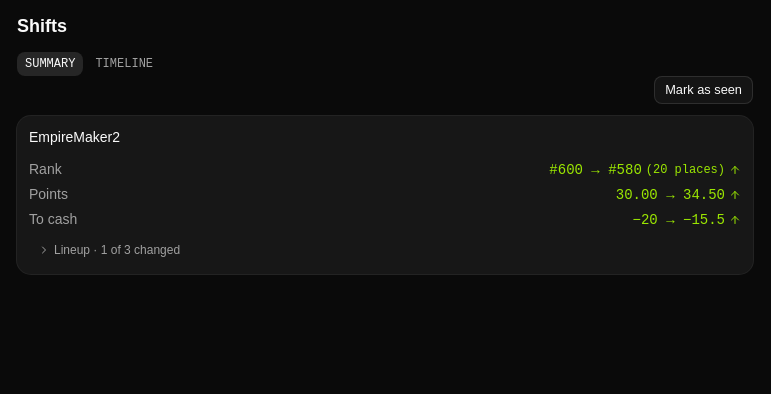
the lineup diff on a VIP card › shows a collapsed Lineup row counting the changed players, which toggles the diff open and closed
Expected: the heading "Shifts" is shown, [17, 16, 67, 36]
Expected: the text "Josh Allen" is not shown
Click the button "Lineup · 1 of 3 changed".
click(77, 250)  # box [29, 238, 741, 262]
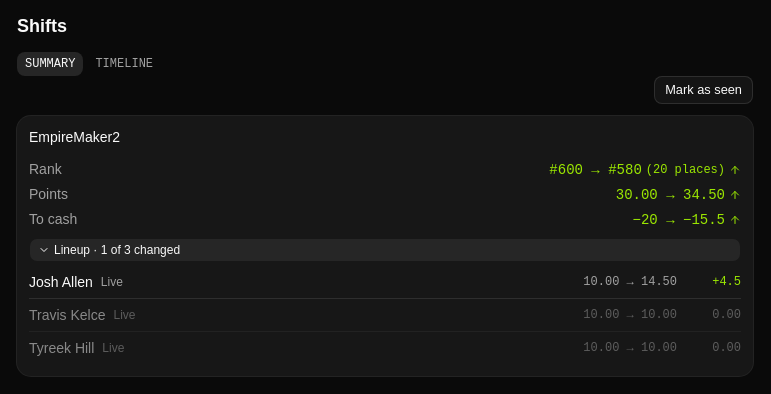
Result: the button "Lineup · 1 of 3 changed" is expanded
Result: the text "Josh Allen" is shown at [29, 272, 93, 292]
Click the button "Lineup · 1 of 3 changed".
click(77, 250)  # box [29, 238, 741, 262]
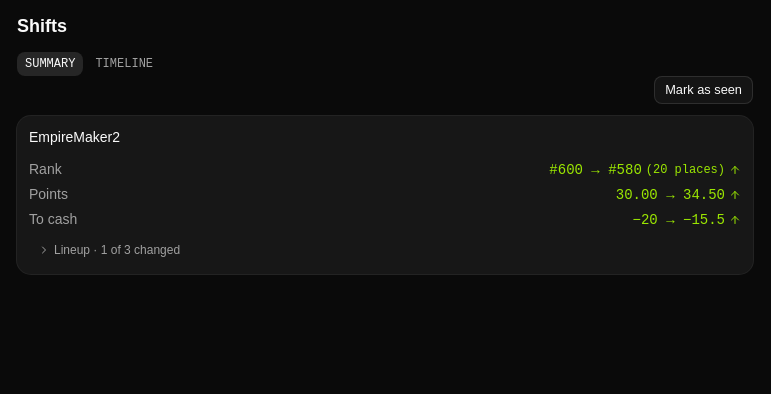
Result: the button "Lineup · 1 of 3 changed" is collapsed at [29, 238, 741, 262]
Result: the text "Josh Allen" is gone
